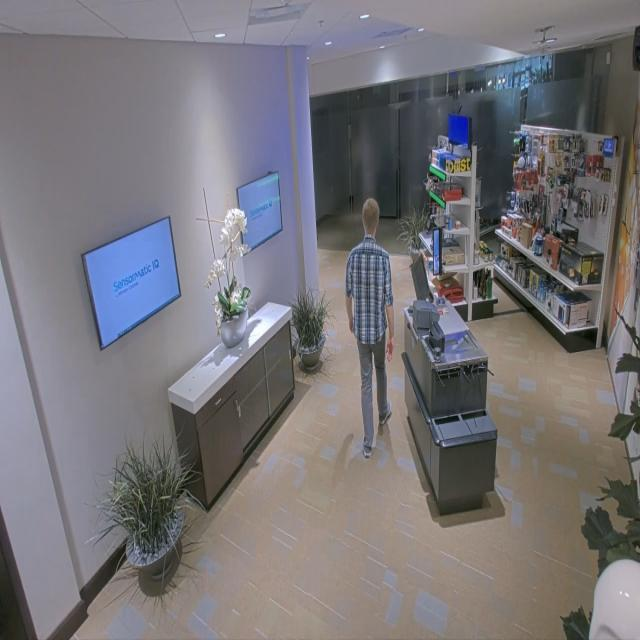normal: (343, 191, 406, 467)
